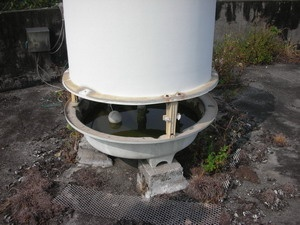water_tower: (61, 1, 220, 167)
